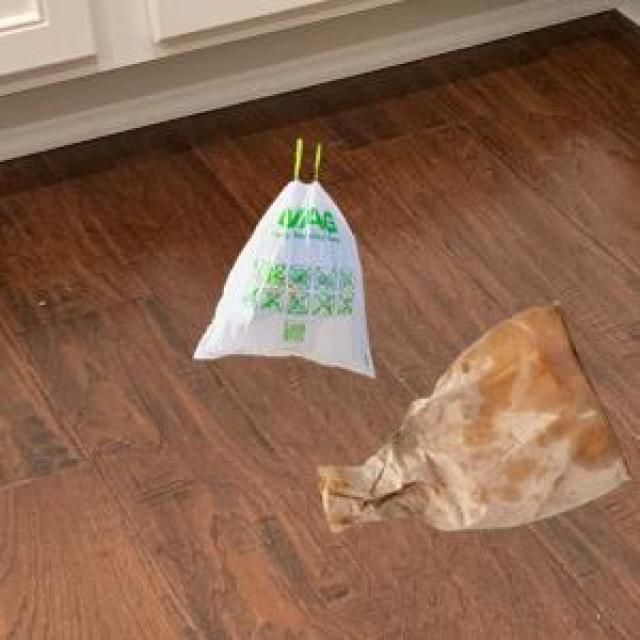paper: (314, 297, 627, 529)
